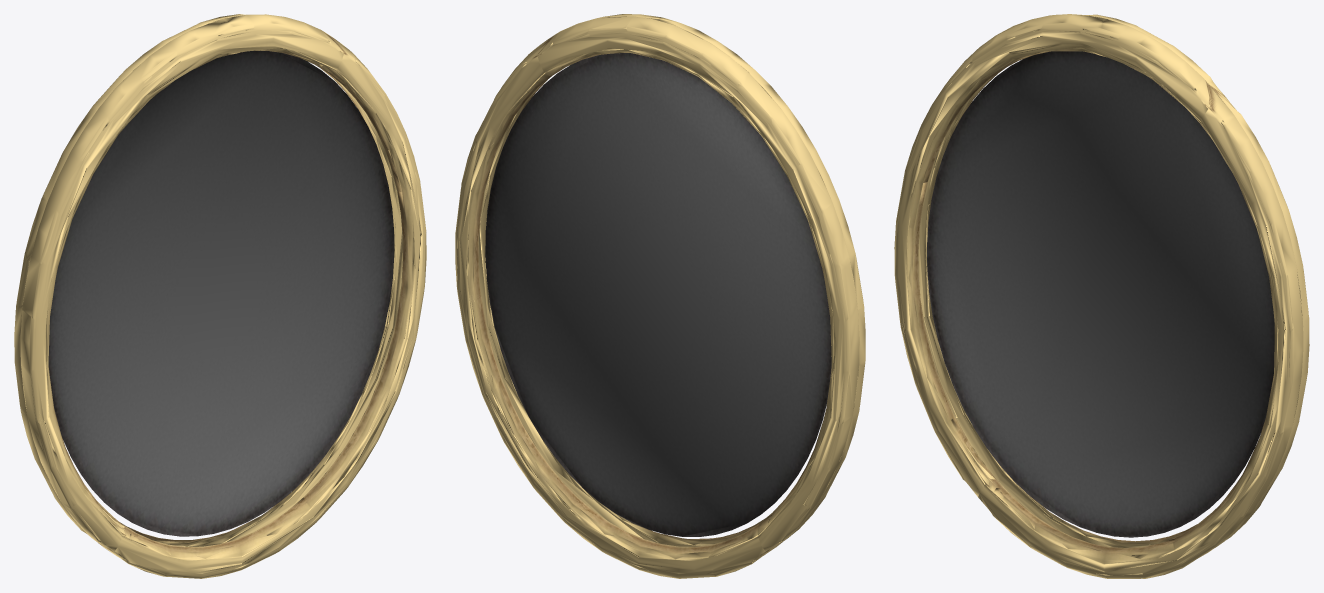
Rendered from haunted_mirror.glb.
The picture shows the model from 3 angles, left to right: view 1: azimuth 30°, elevation 25°; view 2: azimuth 150°, elevation 25°; view 3: azimuth 330°, elevation 25°; orthographic projection.
Visible parts, largest first — view 1: Object_2.003, Object_2.002; view 2: Object_2.003, Object_2.002; view 3: Object_2.003, Object_2.002.
Boxes of the visible parts, <box> form: Object_2.003: <box>48,50,394,536</box>; Object_2.002: <box>14,14,426,578</box>; Object_2.003: <box>485,53,831,536</box>; Object_2.002: <box>455,14,865,578</box>; Object_2.003: <box>927,51,1274,537</box>; Object_2.002: <box>894,14,1309,578</box>.
Size of the model in its own units: 0.251 by 0.33 by 0.021.
2 materials, 2 textured.
